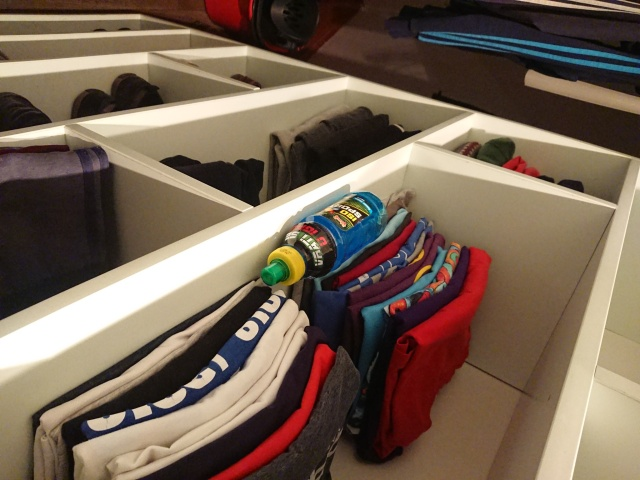Vindi Iso Sport Forest Strawberries 500mL: (259, 189, 389, 287)
